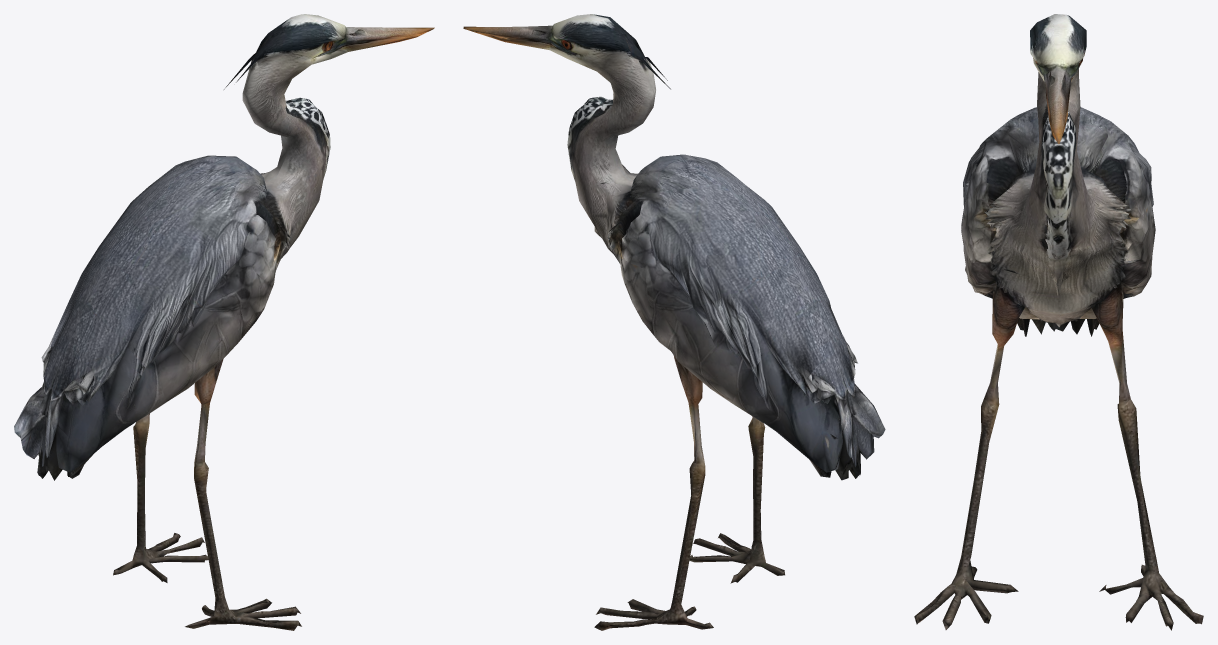
File: heron.glb
3 renders of one model, left to right at view 1: azimuth 30°, elevation 25°; view 2: azimuth 150°, elevation 25°; view 3: azimuth 270°, elevation 25°, orthographic. The views are drawn at different scales.
Visible parts, largest first — view 1: heron; view 2: heron; view 3: heron.
Boxes of the visible parts, x1=… form: heron: x1=14, y1=14, x2=434, y2=630; heron: x1=463, y1=14, x2=885, y2=630; heron: x1=914, y1=14, x2=1203, y2=630.
Size of the model in its own units: 0.7449 by 0.9747 by 0.3975.
Materials: 1 (1 with a texture image).
